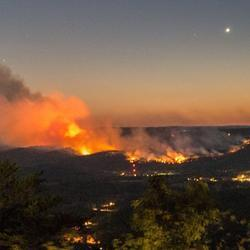fire: (66, 121, 101, 157), (169, 152, 186, 164)
